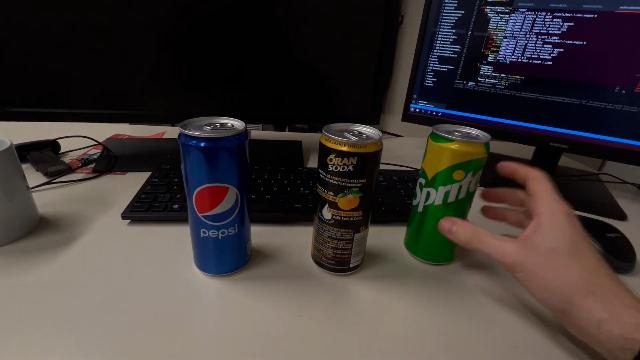OranSoda: (308, 122, 386, 276)
Pepsi: (176, 113, 254, 277)
Sprite: (401, 121, 492, 267)
